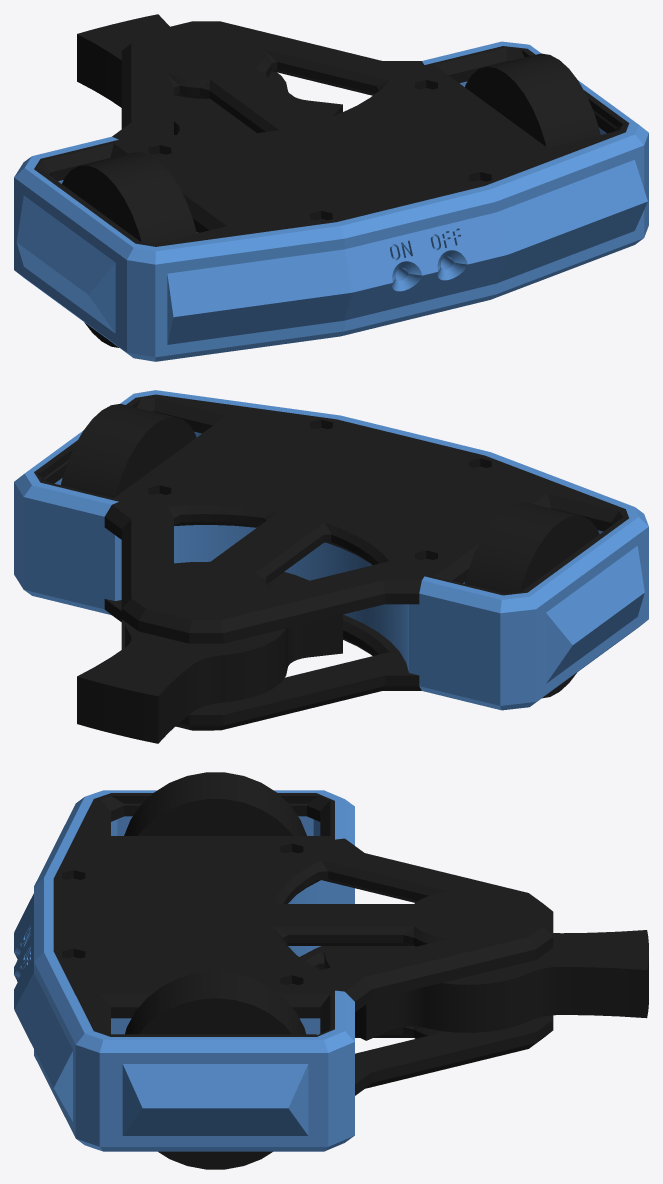
The picture shows the model from 3 angles, top to bottom: view 1: azimuth 30°, elevation 25°; view 2: azimuth 150°, elevation 25°; view 3: azimuth 270°, elevation 25°; orthographic projection.
Visible parts, largest first — view 1: anim_bb2_18_full_tpu_1, anim_bb2_4_Top_Plate_1, anim_bb2_2_Wheel_assembly_2__1, anim_bb2_1_Wheel_assembly_1__1, anim_bb2_17_Weapon_Blade_v1_1; view 2: anim_bb2_4_Top_Plate_1, anim_bb2_18_full_tpu_1, anim_bb2_17_Weapon_Blade_v1_1, anim_bb2_5_Bottom_Plate_1, anim_bb2_2_Wheel_assembly_2__1, anim_bb2_1_Wheel_assembly_1__1; view 3: anim_bb2_4_Top_Plate_1, anim_bb2_18_full_tpu_1, anim_bb2_17_Weapon_Blade_v1_1, anim_bb2_2_Wheel_assembly_2__1, anim_bb2_1_Wheel_assembly_1__1, anim_bb2_5_Bottom_Plate_1.
Part boxes in pixels (bbox=[...]): anim_bb2_18_full_tpu_1: bbox=[14, 41, 648, 361]; anim_bb2_4_Top_Plate_1: bbox=[34, 21, 629, 246]; anim_bb2_2_Wheel_assembly_2__1: bbox=[465, 53, 600, 147]; anim_bb2_1_Wheel_assembly_1__1: bbox=[62, 152, 196, 347]; anim_bb2_17_Weapon_Blade_v1_1: bbox=[77, 14, 342, 135]; anim_bb2_4_Top_Plate_1: bbox=[34, 394, 628, 643]; anim_bb2_18_full_tpu_1: bbox=[14, 390, 648, 710]; anim_bb2_17_Weapon_Blade_v1_1: bbox=[77, 561, 342, 743]; anim_bb2_5_Bottom_Plate_1: bbox=[104, 599, 421, 730]; anim_bb2_2_Wheel_assembly_2__1: bbox=[61, 404, 196, 497]; anim_bb2_1_Wheel_assembly_1__1: bbox=[464, 502, 599, 698]; anim_bb2_4_Top_Plate_1: bbox=[53, 793, 553, 1036]; anim_bb2_18_full_tpu_1: bbox=[14, 790, 354, 1151]; anim_bb2_17_Weapon_Blade_v1_1: bbox=[324, 930, 648, 1040]; anim_bb2_2_Wheel_assembly_2__1: bbox=[125, 971, 305, 1169]; anim_bb2_1_Wheel_assembly_1__1: bbox=[124, 772, 306, 835]; anim_bb2_5_Bottom_Plate_1: bbox=[300, 946, 553, 1095].
Bounding box in the file's own units: 0.196 × 0.0572 × 0.1915.
